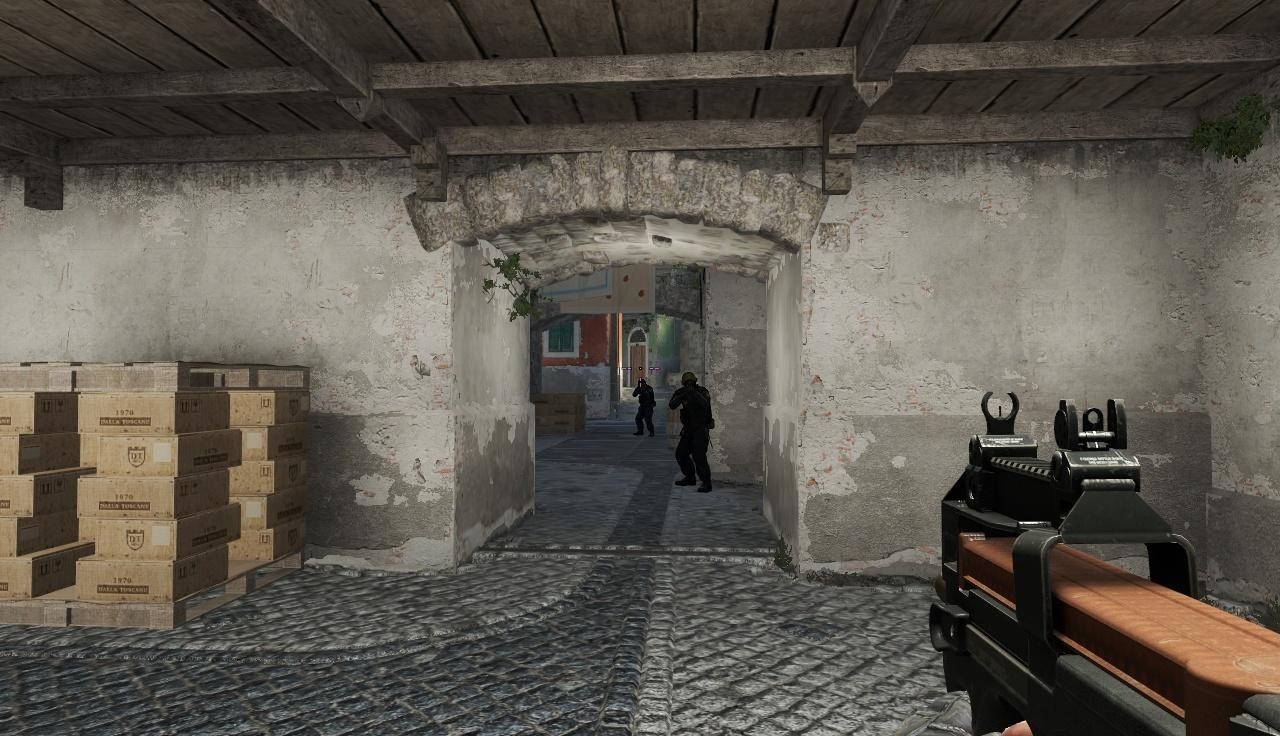ct: (675, 373, 716, 493), (634, 376, 654, 437)
cthead: (683, 371, 700, 392), (639, 377, 648, 388)
rifle: (935, 385, 1280, 731)
